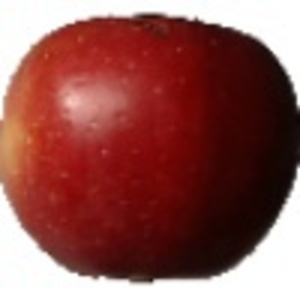maçã braeburn: (1, 10, 299, 284)
